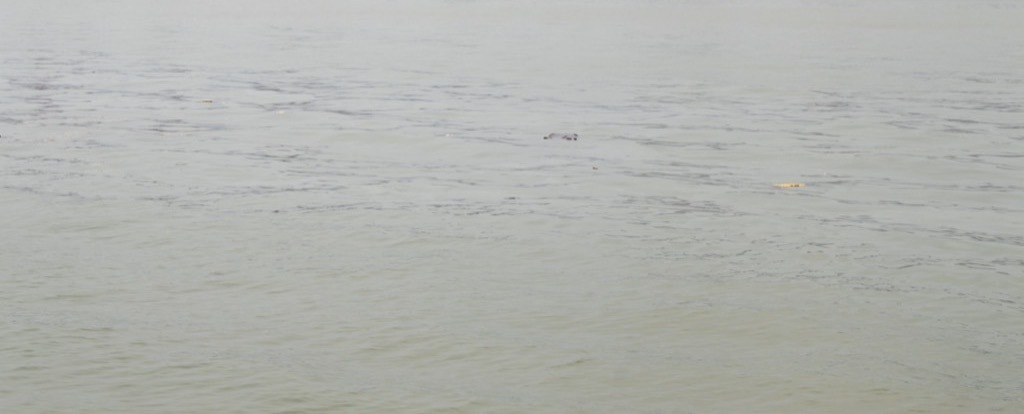organic: (537, 122, 591, 147), (583, 161, 617, 182)
plastic: (766, 165, 813, 207), (268, 100, 307, 131), (427, 123, 466, 149)
